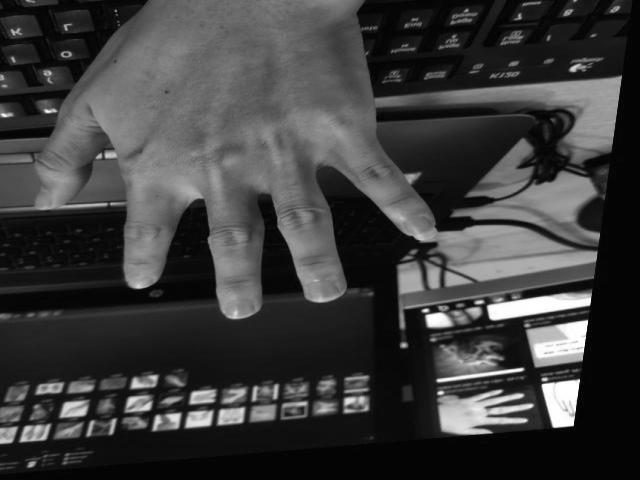not-gloved: (31, 0, 441, 321)
